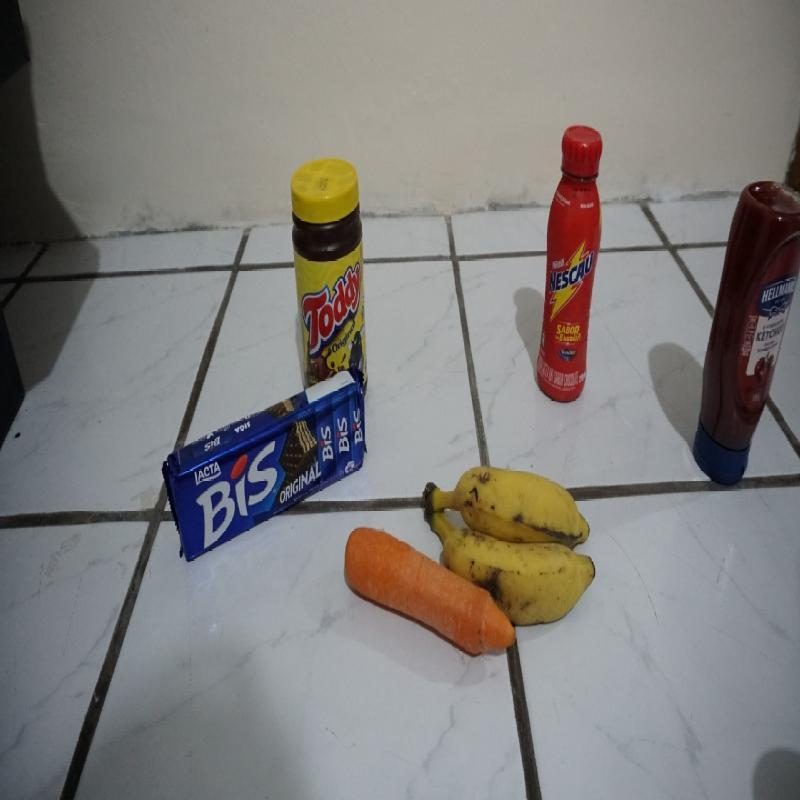Banana: (422, 462, 600, 570)
Carrot: (340, 521, 423, 629)
Chocolate Milk: (534, 119, 598, 401)
Chocolate Powder: (293, 155, 368, 364)
Ketchup: (688, 174, 794, 510)
